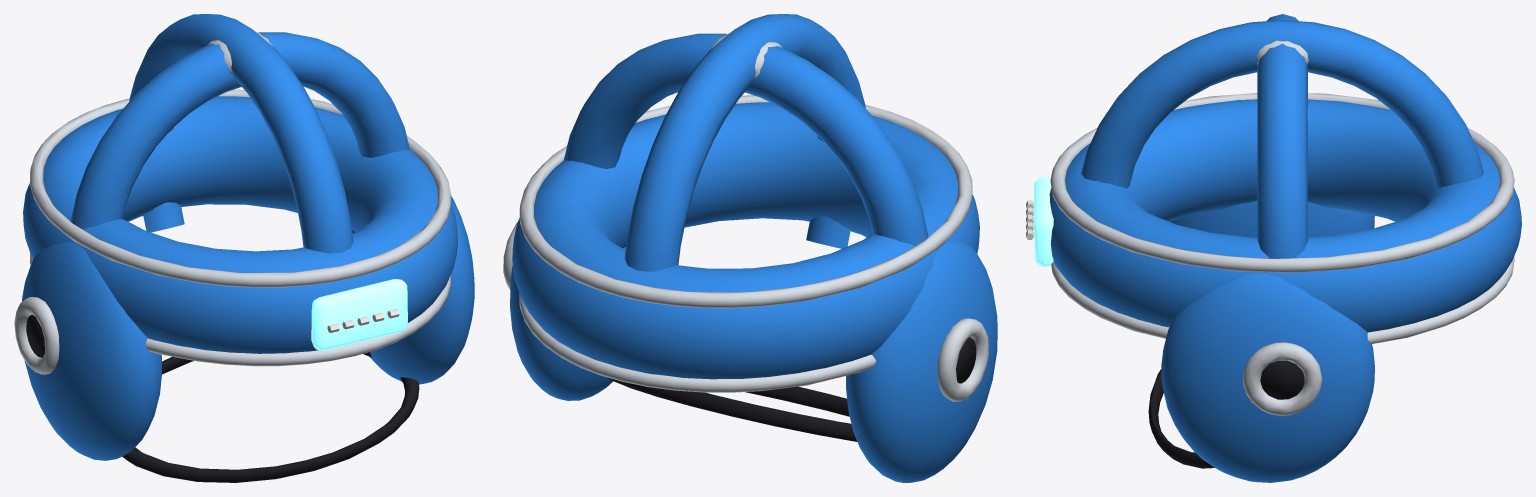
File: head.glb
3 views of the same model, side by side, from view 1: azimuth 30°, elevation 25°; view 2: azimuth 150°, elevation 25°; view 3: azimuth 270°, elevation 25° (orthographic). The views are drawn at different scales.
Parts seen in each view (by area): view 1: head; view 2: head; view 3: head.
Part boxes in pixels (box(x1,y1,x2,y2)): head: box(14, 14, 474, 482); head: box(503, 14, 997, 482); head: box(1026, 14, 1521, 482).
Bounding box in the file's own units: 1.56 × 1.42 × 1.6.
